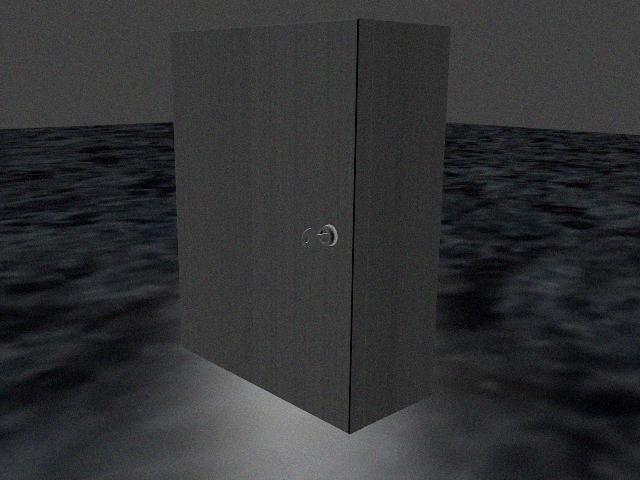cabinet_door: (175, 26, 354, 390)
handle: (317, 222, 339, 254)
